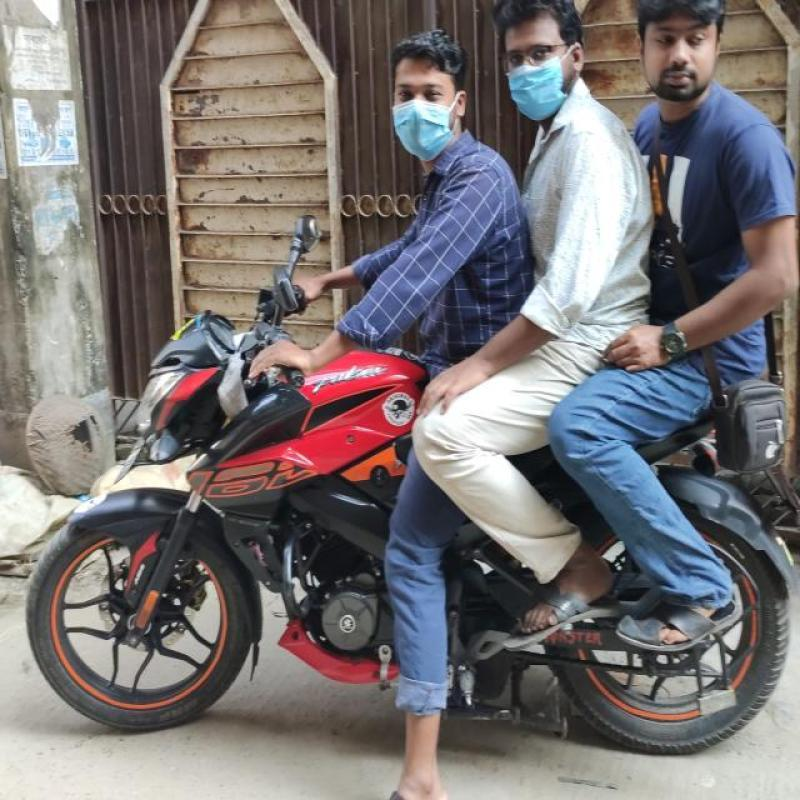nohelmet: (626, 5, 752, 104), (488, 10, 598, 119), (385, 26, 471, 152)
